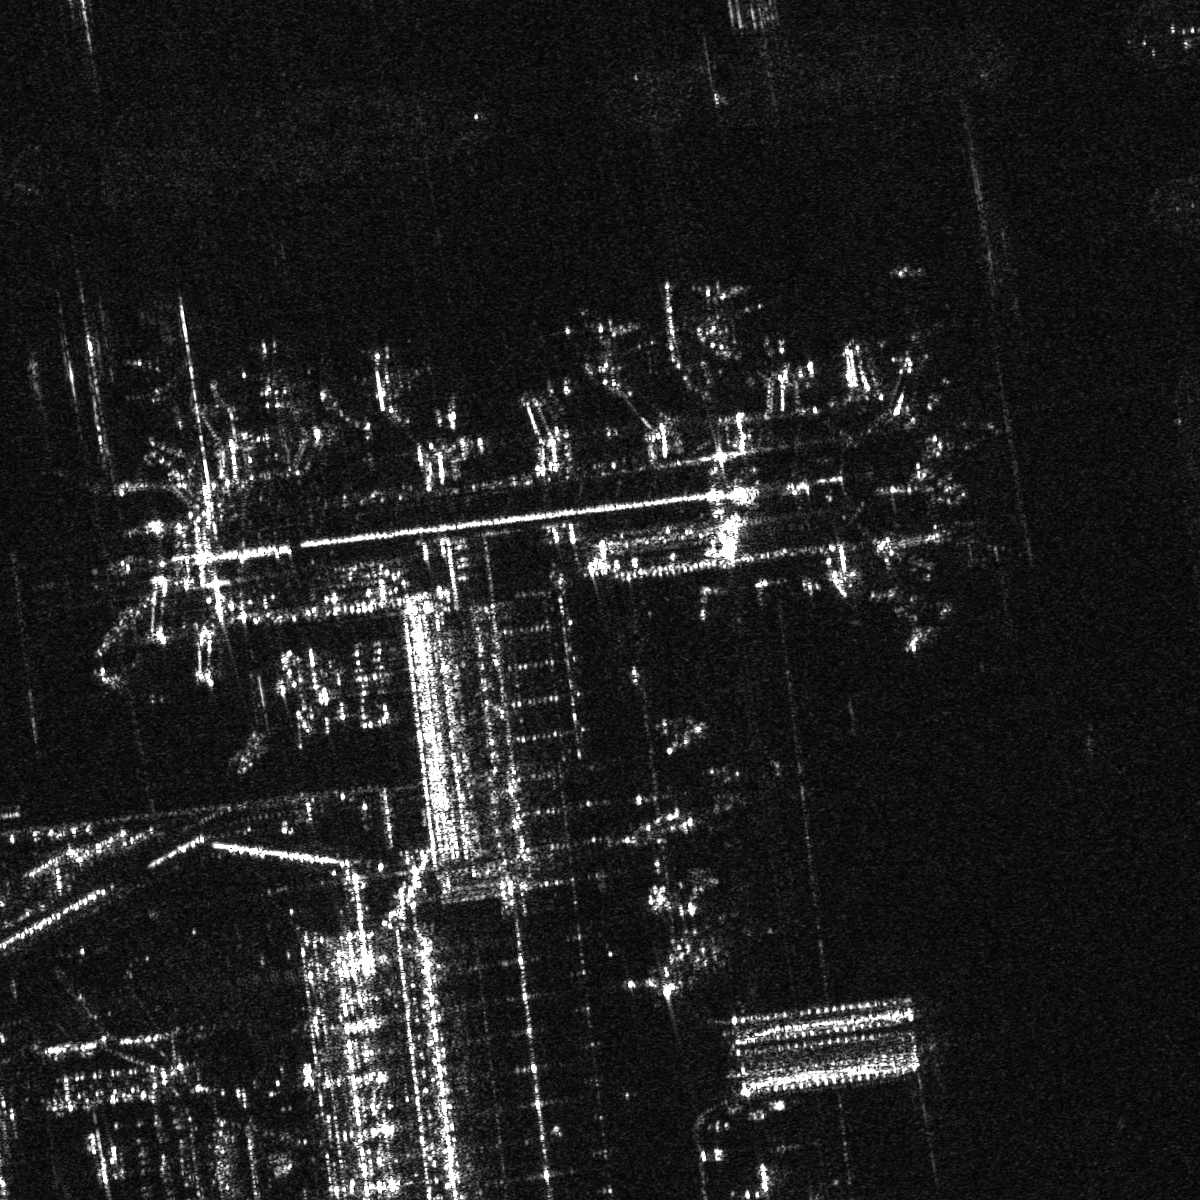A220: (240, 336, 311, 410), (346, 343, 418, 412), (579, 301, 641, 357), (686, 267, 745, 316)
